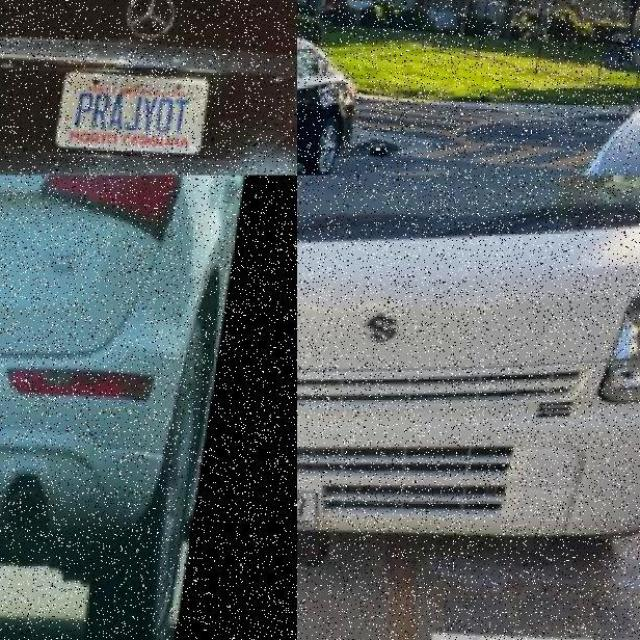LicensePlate: (56, 74, 210, 159), (296, 476, 376, 553), (0, 189, 35, 285)
